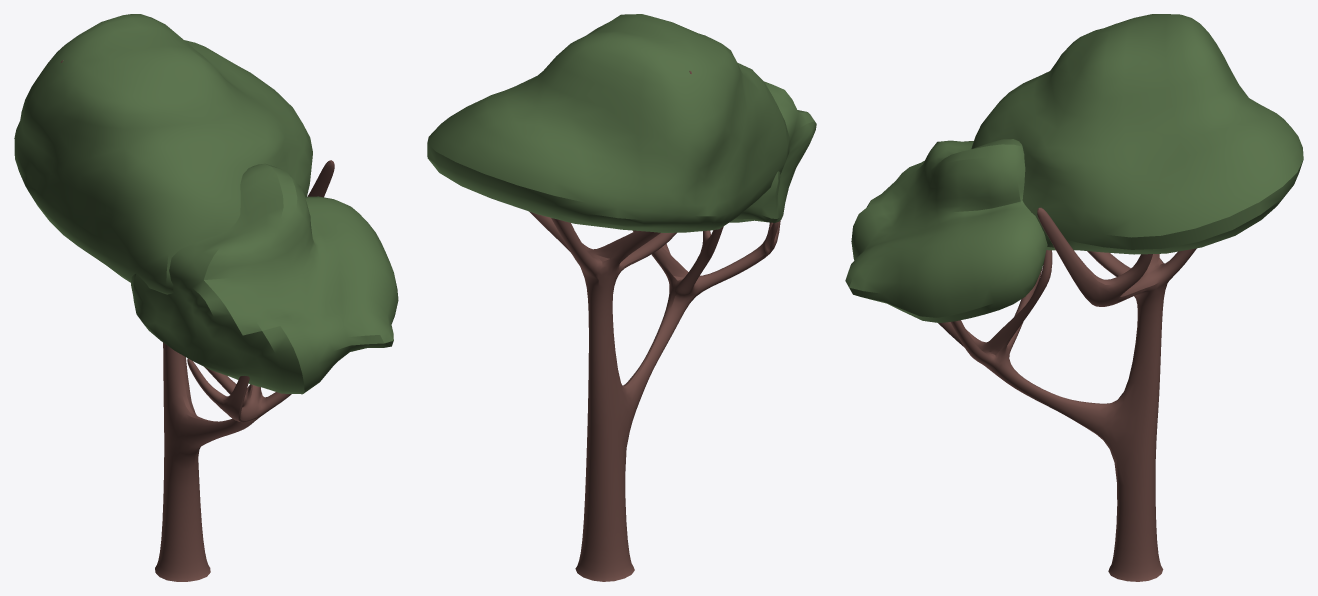
The model's file is Tree_2.fbx.
The picture shows the model from 3 angles, left to right: view 1: azimuth 30°, elevation 25°; view 2: azimuth 150°, elevation 25°; view 3: azimuth 270°, elevation 25°; orthographic projection. The views are drawn at different scales.
Visible parts, largest first — view 1: CommonTree_2; view 2: CommonTree_2; view 3: CommonTree_2.
Part boxes in pixels (x1,y1,x2,y2): CommonTree_2: (14,14,398,581); CommonTree_2: (427,14,816,581); CommonTree_2: (845,14,1303,581).
Size of the model in its own units: 154 by 306 by 241.
